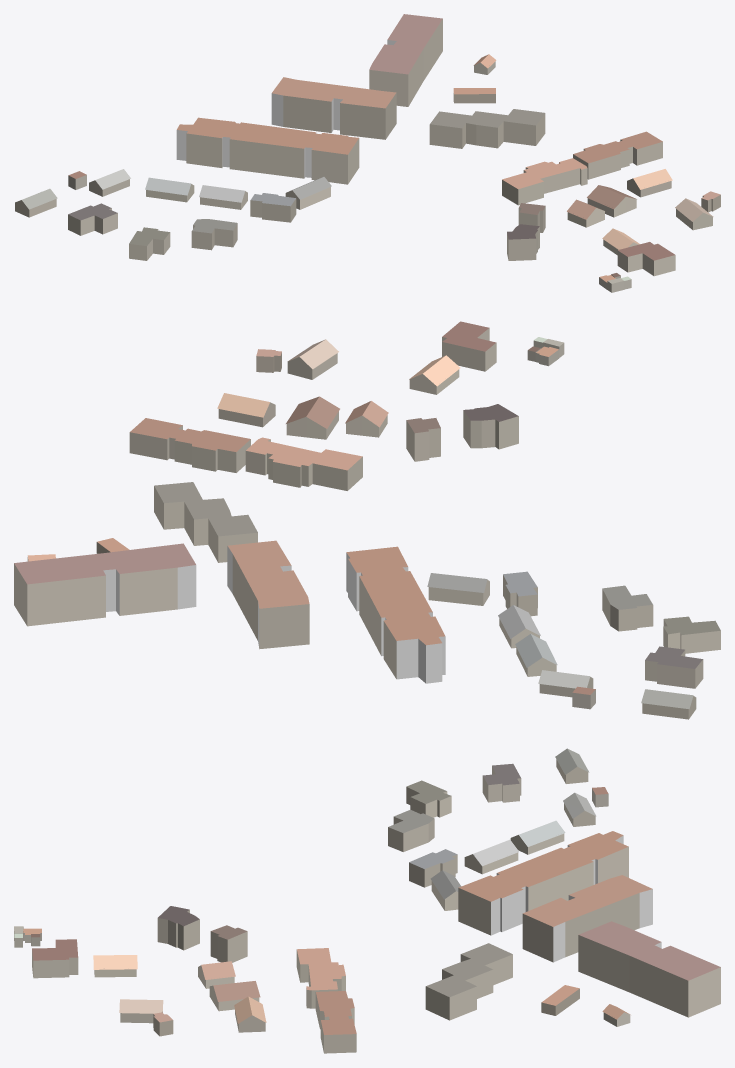
The picture shows the model from 3 angles, top to bottom: view 1: azimuth 30°, elevation 25°; view 2: azimuth 150°, elevation 25°; view 3: azimuth 270°, elevation 25°; orthographic projection. The views are drawn at different scales.
Parts seen in each view (by area): view 1: tuile; view 2: tuile; view 3: tuile.
Part boxes in pixels (x1,y1,x2,y2): tuile: [15, 14, 720, 292]; tuile: [14, 321, 720, 719]; tuile: [14, 748, 720, 1053].
Bounding box in the file's own units: 264 × 22.81 × 267.
